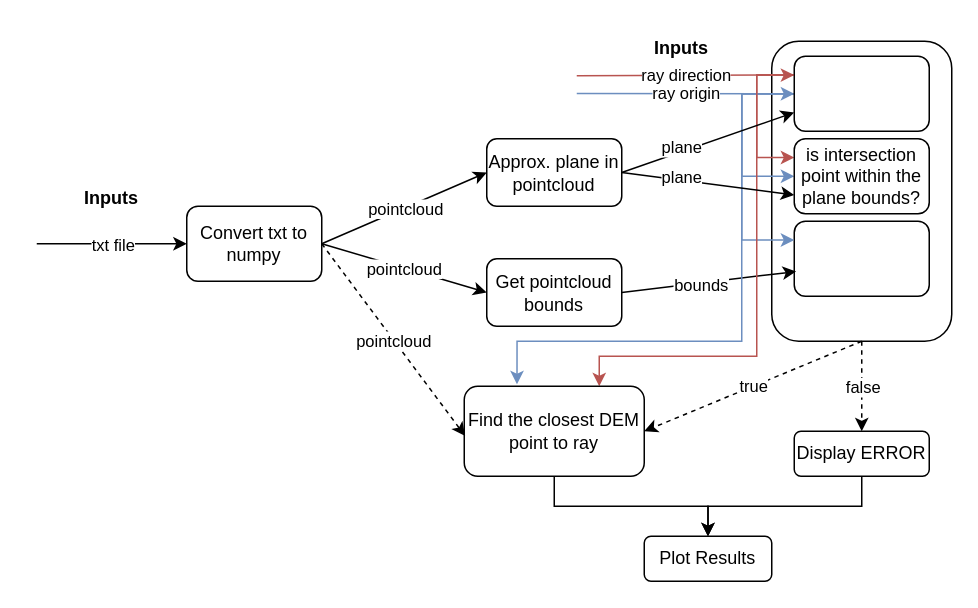
Image size: 978x608. Some labels were removed from this diagram. Here are the shapes that lost their labels. From the top down, the box of each, then its label:
(793, 55, 929, 131): is ray parallel to plane?
(770, 40, 952, 341): is ray valid?
(793, 220, 929, 296): is origin near bounds?
